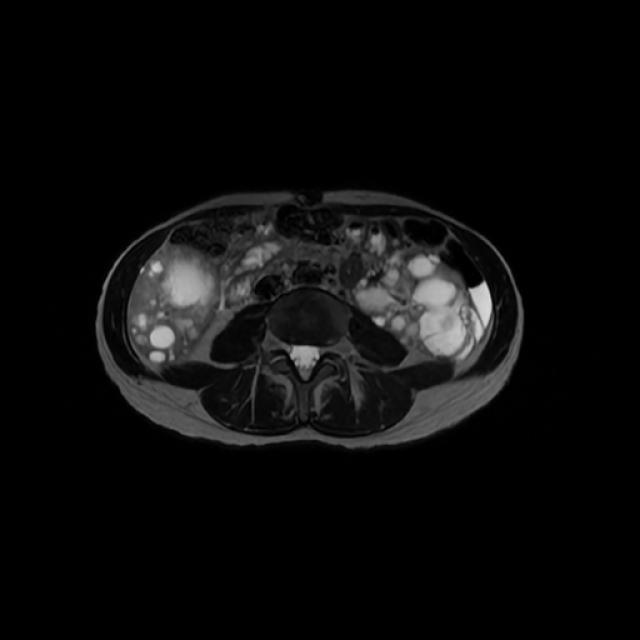sag: (126, 242, 221, 364)
sol: (349, 246, 476, 362)
